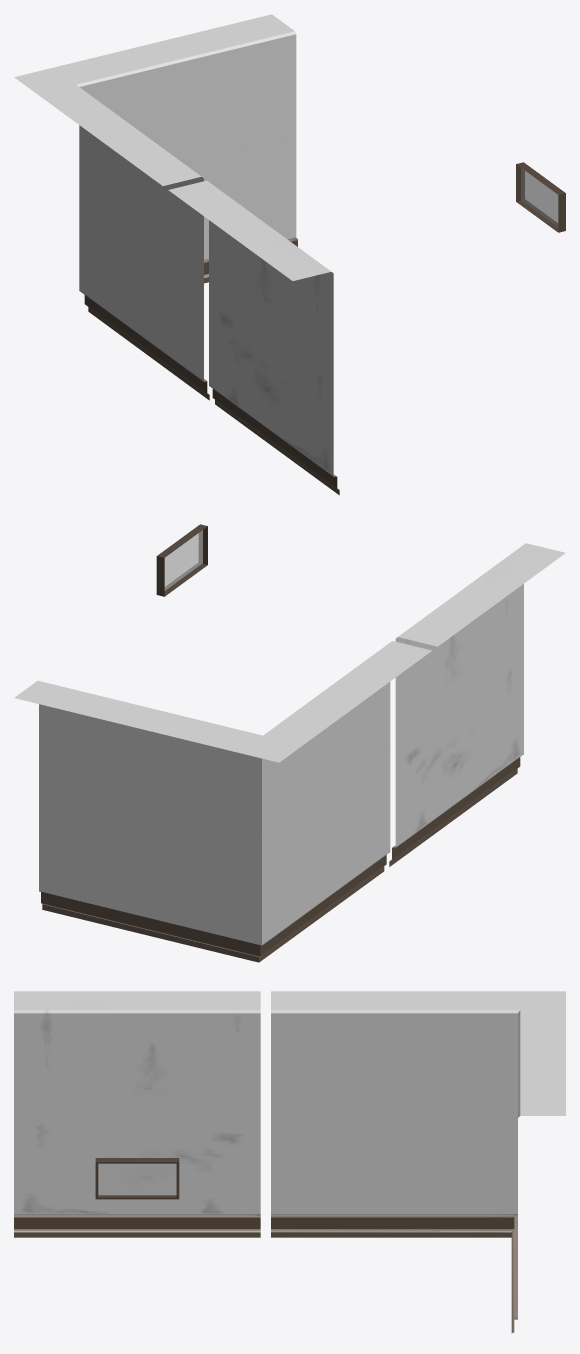
The model's file is Walls.fbx.
3 renders of one model, top to bottom at view 1: azimuth 30°, elevation 25°; view 2: azimuth 150°, elevation 25°; view 3: azimuth 270°, elevation 25°, orthographic. The views are drawn at different scales.
Visible parts, largest first — view 1: Corner, Single, Window; view 2: Corner, Single, Window; view 3: Corner, Single, Window.
Part boxes in pixels (x1,y1,x2,y2): Corner: [14, 14, 297, 400]; Single: [168, 180, 339, 495]; Window: [516, 162, 565, 232]; Corner: [14, 641, 431, 962]; Single: [389, 543, 565, 866]; Window: [156, 524, 207, 596]; Corner: [271, 991, 565, 1333]; Single: [14, 991, 260, 1237]; Window: [95, 1158, 179, 1199].
Bounding box in the file's own units: 34.98 × 24 × 53.67.
